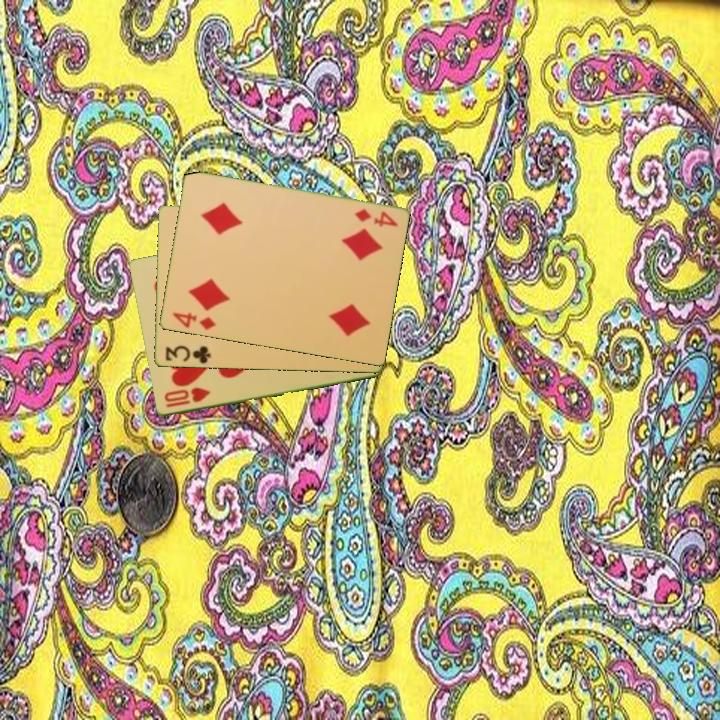10h: (161, 384, 213, 411)
3c: (162, 342, 213, 367)
4d: (351, 205, 400, 230), (168, 309, 218, 333)
